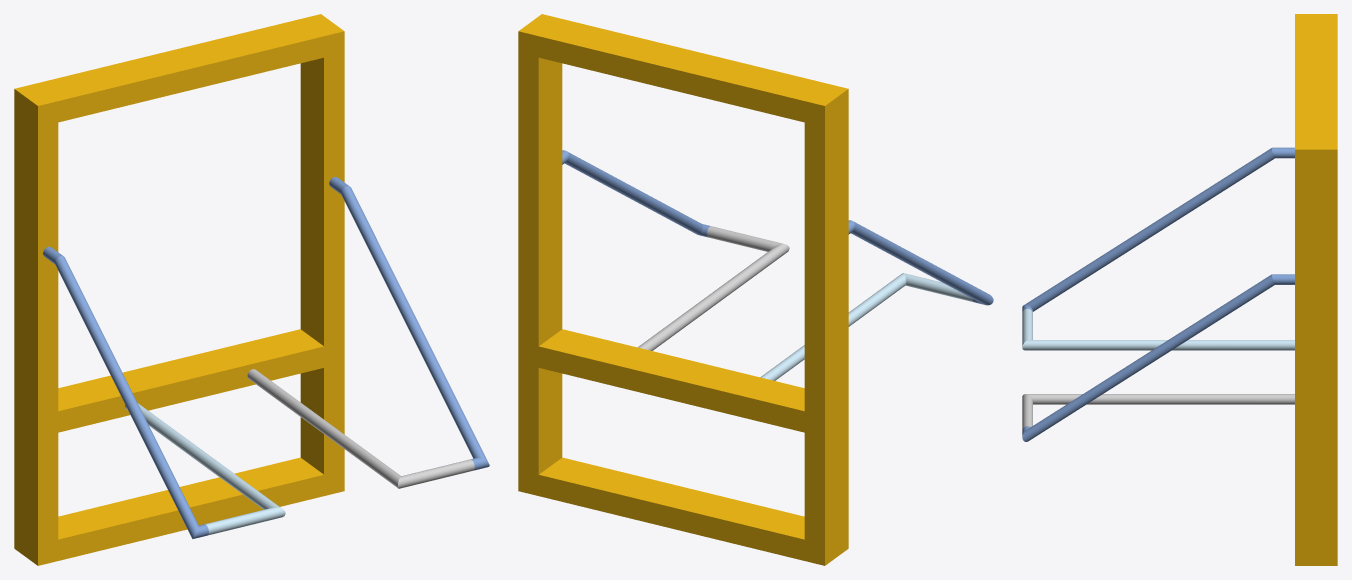
The model's file is 1323 - carrage.gltf.
3 renders of one model, left to right at view 1: azimuth 30°, elevation 25°; view 2: azimuth 150°, elevation 25°; view 3: azimuth 270°, elevation 25°, orthographic. The views are drawn at different scales.
Parts seen in each view (by area): view 1: Part 19, Part 21, Part 18, Part 22, Part 20, Part 27, Part 28, Part 26, Part 25; view 2: Part 19, Part 21, Part 18, Part 22, Part 20, Part 26, Part 25, Part 28, Part 27; view 3: Part 21, Part 18, Part 28, Part 27, Part 25, Part 26.
Boxes of the visible parts, x1=… form: Part 19: x1=14, y1=110, x2=58, y2=565; Part 21: x1=300, y1=52, x2=344, y2=495; Part 18: x1=14, y1=14, x2=344, y2=127; Part 22: x1=58, y1=329, x2=323, y2=432; Part 20: x1=58, y1=457, x2=323, y2=560; Part 27: x1=43, y1=246, x2=208, y2=539; Part 28: x1=329, y1=177, x2=489, y2=470; Part 26: x1=247, y1=369, x2=474, y2=488; Part 25: x1=125, y1=403, x2=285, y2=535; Part 19: x1=804, y1=110, x2=848, y2=565; Part 21: x1=518, y1=52, x2=562, y2=495; Part 18: x1=518, y1=14, x2=848, y2=127; Part 22: x1=538, y1=329, x2=804, y2=432; Part 20: x1=538, y1=457, x2=804, y2=560; Part 26: x1=638, y1=226, x2=789, y2=350; Part 25: x1=760, y1=273, x2=973, y2=380; Part 28: x1=562, y1=150, x2=710, y2=237; Part 27: x1=848, y1=220, x2=993, y2=305; Part 21: x1=1295, y1=169, x2=1337, y2=565; Part 18: x1=1295, y1=14, x2=1337, y2=168; Part 28: x1=1022, y1=274, x2=1294, y2=441; Part 27: x1=1022, y1=147, x2=1294, y2=312; Part 25: x1=1022, y1=308, x2=1294, y2=350; Part 26: x1=1022, y1=394, x2=1294, y2=429.
Size of the model in its own units: 0.381 by 0.5461 by 0.3746.
